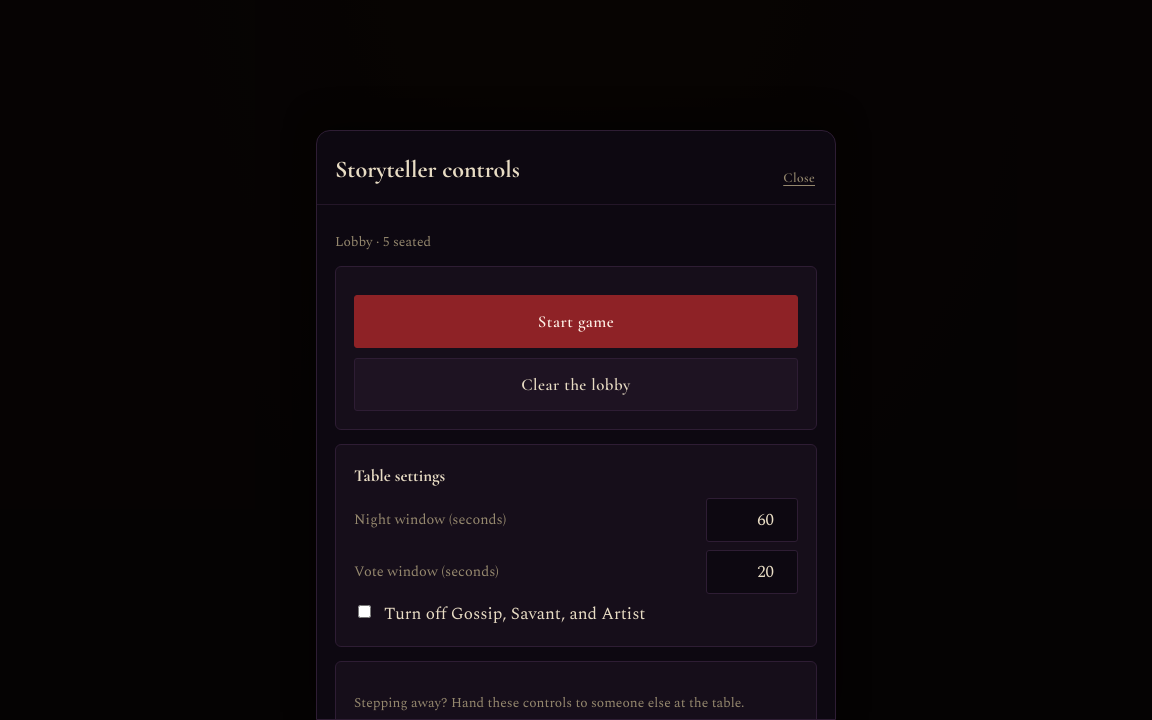
Test case: LeaderControlsOverlay › host-code-gated tables › any other server error still shows a toast
The width and height of the screenshot is (1152, 720).
Click the button "Start game" at [576, 322], box [354,295,798,348]
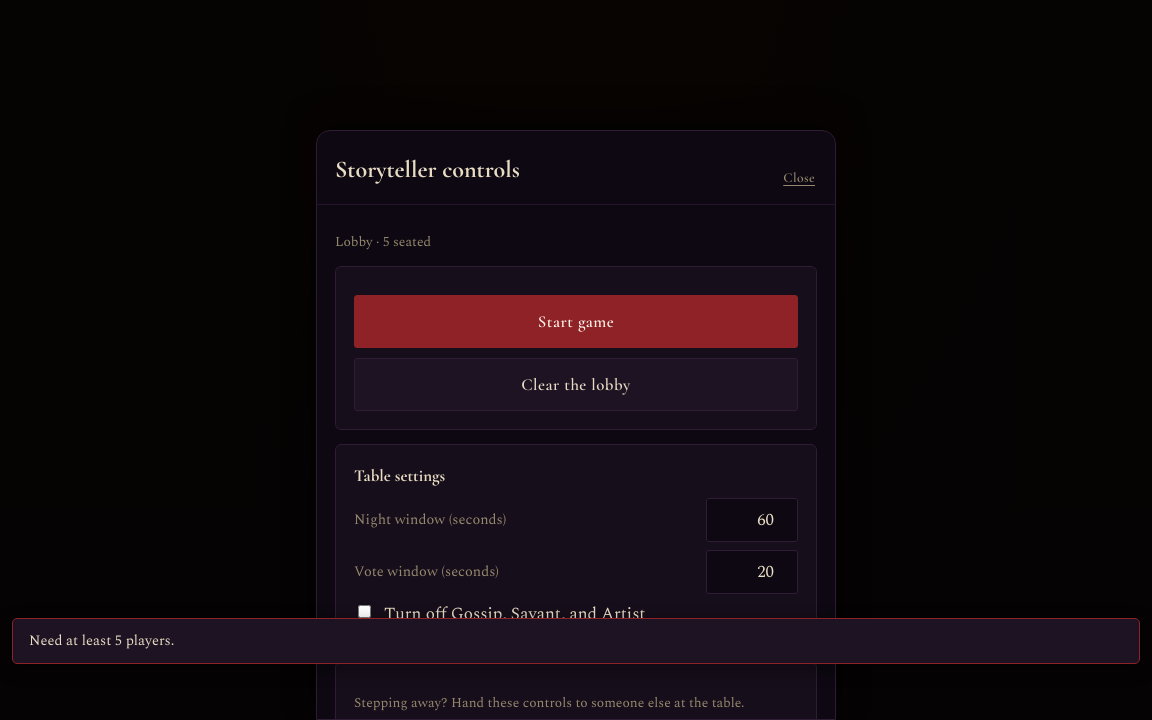
Now the text "Need at least 5 players." is shown, box [12,618,1140,664]
